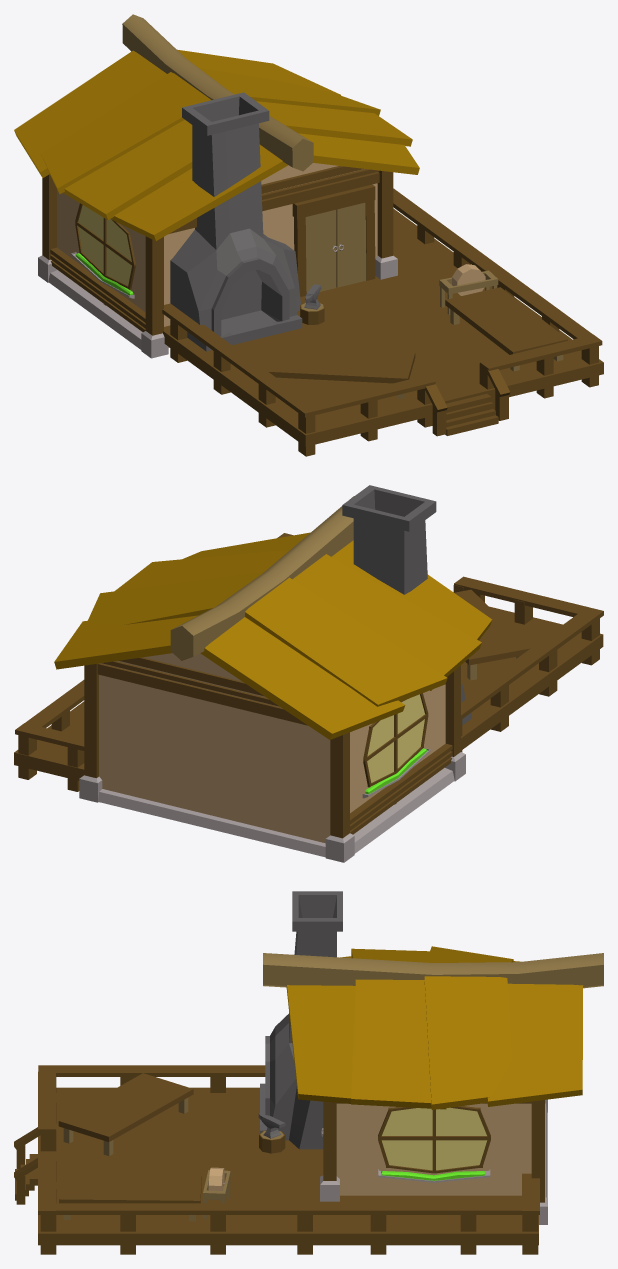
File: mesh_Blacksmith_SMall.fbx
3 renders of one model, top to bottom at view 1: azimuth 30°, elevation 25°; view 2: azimuth 150°, elevation 25°; view 3: azimuth 270°, elevation 25°, orthographic. The views are drawn at different scales.
Visible parts, largest first — view 1: Blacksmith_SMall; view 2: Blacksmith_SMall; view 3: Blacksmith_SMall.
Part boxes in pixels (<box>): Blacksmith_SMall: <box>14,14,603,456</box>; Blacksmith_SMall: <box>14,485,603,862</box>; Blacksmith_SMall: <box>14,891,603,1254</box>.
Bounding box in the file's own units: 10.54 × 6.72 × 15.34.
1 material, 1 textured.
